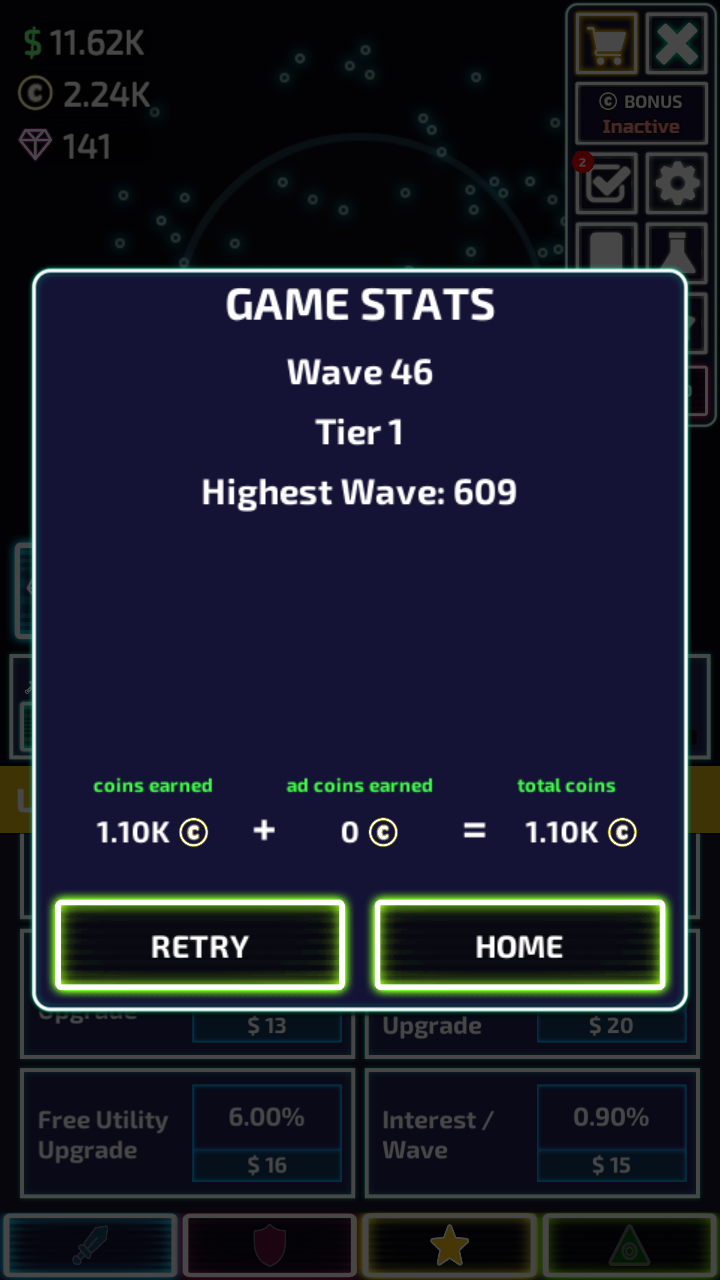B_Game_Over_Home: (367, 895, 660, 986)
B_Game_Over_Retry: (48, 888, 354, 992)
B_Menu_Daily_Action_Required: (564, 150, 641, 215)
B_Menu_Open: (564, 9, 710, 80)
B_Slot: (20, 1070, 349, 1195), (365, 1070, 694, 1193), (20, 1002, 352, 1059), (367, 1009, 701, 1059)
B_Slot_Button: (189, 1086, 345, 1184), (531, 1090, 689, 1182), (187, 1002, 349, 1047), (532, 1008, 685, 1041)
B_Slot_Label: (23, 1106, 178, 1171), (369, 1107, 506, 1166), (372, 1011, 490, 1047)
B_Slot_Price: (228, 1146, 299, 1180), (226, 1013, 297, 1045), (575, 1148, 641, 1182), (564, 1017, 637, 1038)
B_Slot_Value: (548, 1100, 660, 1136), (203, 1097, 320, 1130)
B_Tab_Utility: (682, 762, 720, 835), (4, 766, 32, 830)
